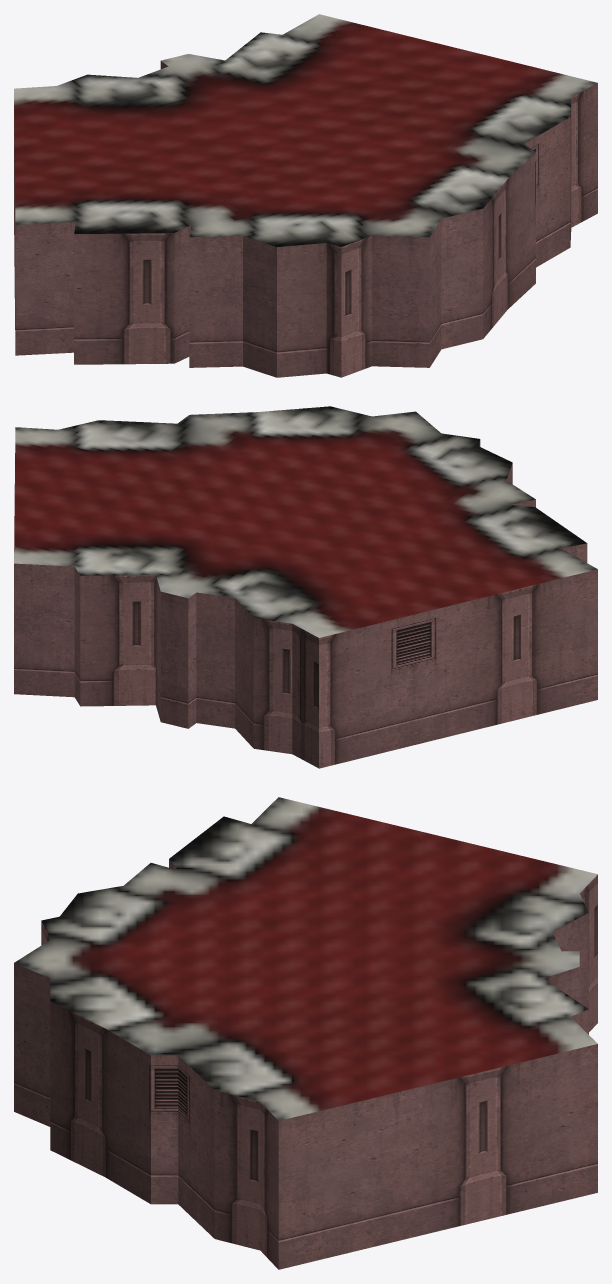
The model's file is hardened_roof34.glb.
3 views of the same model, one above another, from view 1: azimuth 30°, elevation 25°; view 2: azimuth 150°, elevation 25°; view 3: azimuth 270°, elevation 25° (orthographic). The views are drawn at different scales.
Visible parts, largest first — view 1: buildings/saxarba/hard/hardened_roof34; view 2: buildings/saxarba/hard/hardened_roof34; view 3: buildings/saxarba/hard/hardened_roof34.
Boxes of the visible parts, left/top/right/bottom form: buildings/saxarba/hard/hardened_roof34: left=14, top=14, right=597, bottom=377; buildings/saxarba/hard/hardened_roof34: left=14, top=406, right=597, bottom=768; buildings/saxarba/hard/hardened_roof34: left=14, top=797, right=597, bottom=1269.
Size of the model in its own units: 84 by 18 by 64.
